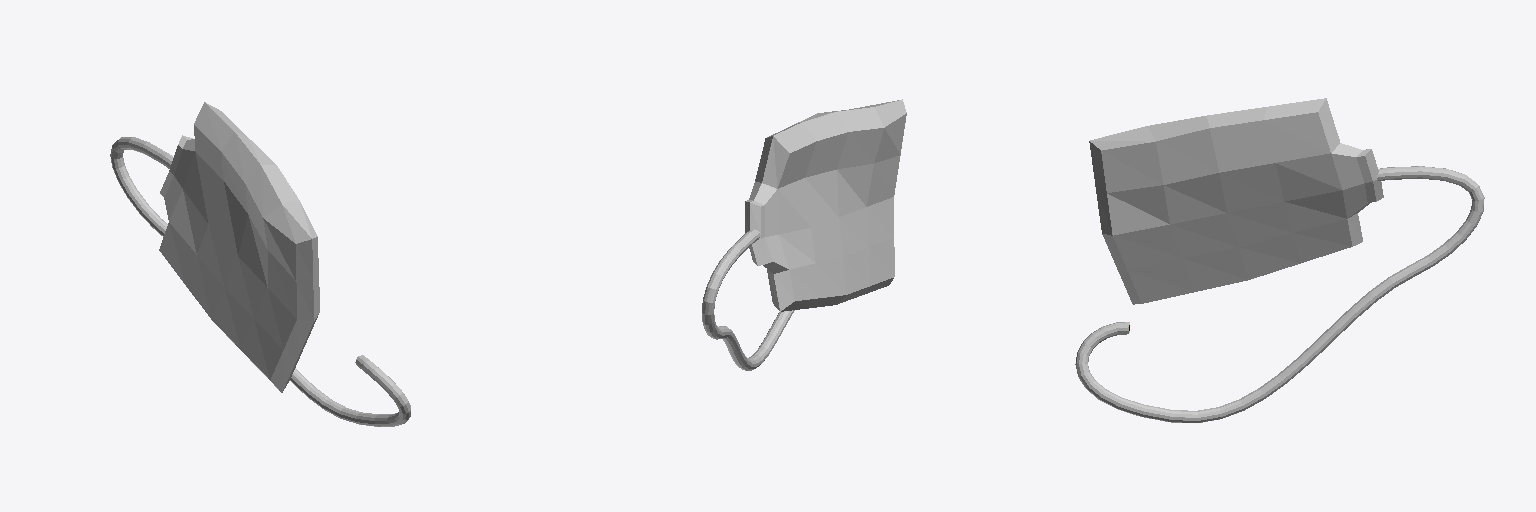
The model's file is V1_Bloodbag.obj.
The picture shows the model from 3 angles: view 1: azimuth 30°, elevation 25°; view 2: azimuth 150°, elevation 25°; view 3: azimuth 270°, elevation 25°; orthographic projection.
Visible parts, largest first — view 1: Cube.011, BézierCurve.004; view 2: Cube.011, BézierCurve.004; view 3: Cube.011, BézierCurve.004.
Part boxes in pixels (left/top/right/bottom): Cube.011: left=159, top=102, right=319, bottom=392; BézierCurve.004: left=110, top=137, right=410, bottom=426; Cube.011: left=745, top=99, right=906, bottom=311; BézierCurve.004: left=702, top=229, right=794, bottom=370; Cube.011: left=1089, top=98, right=1383, bottom=304; BézierCurve.004: left=1075, top=166, right=1484, bottom=422.
Size of the model in its own units: 0.2239 by 0.4971 by 0.6398.